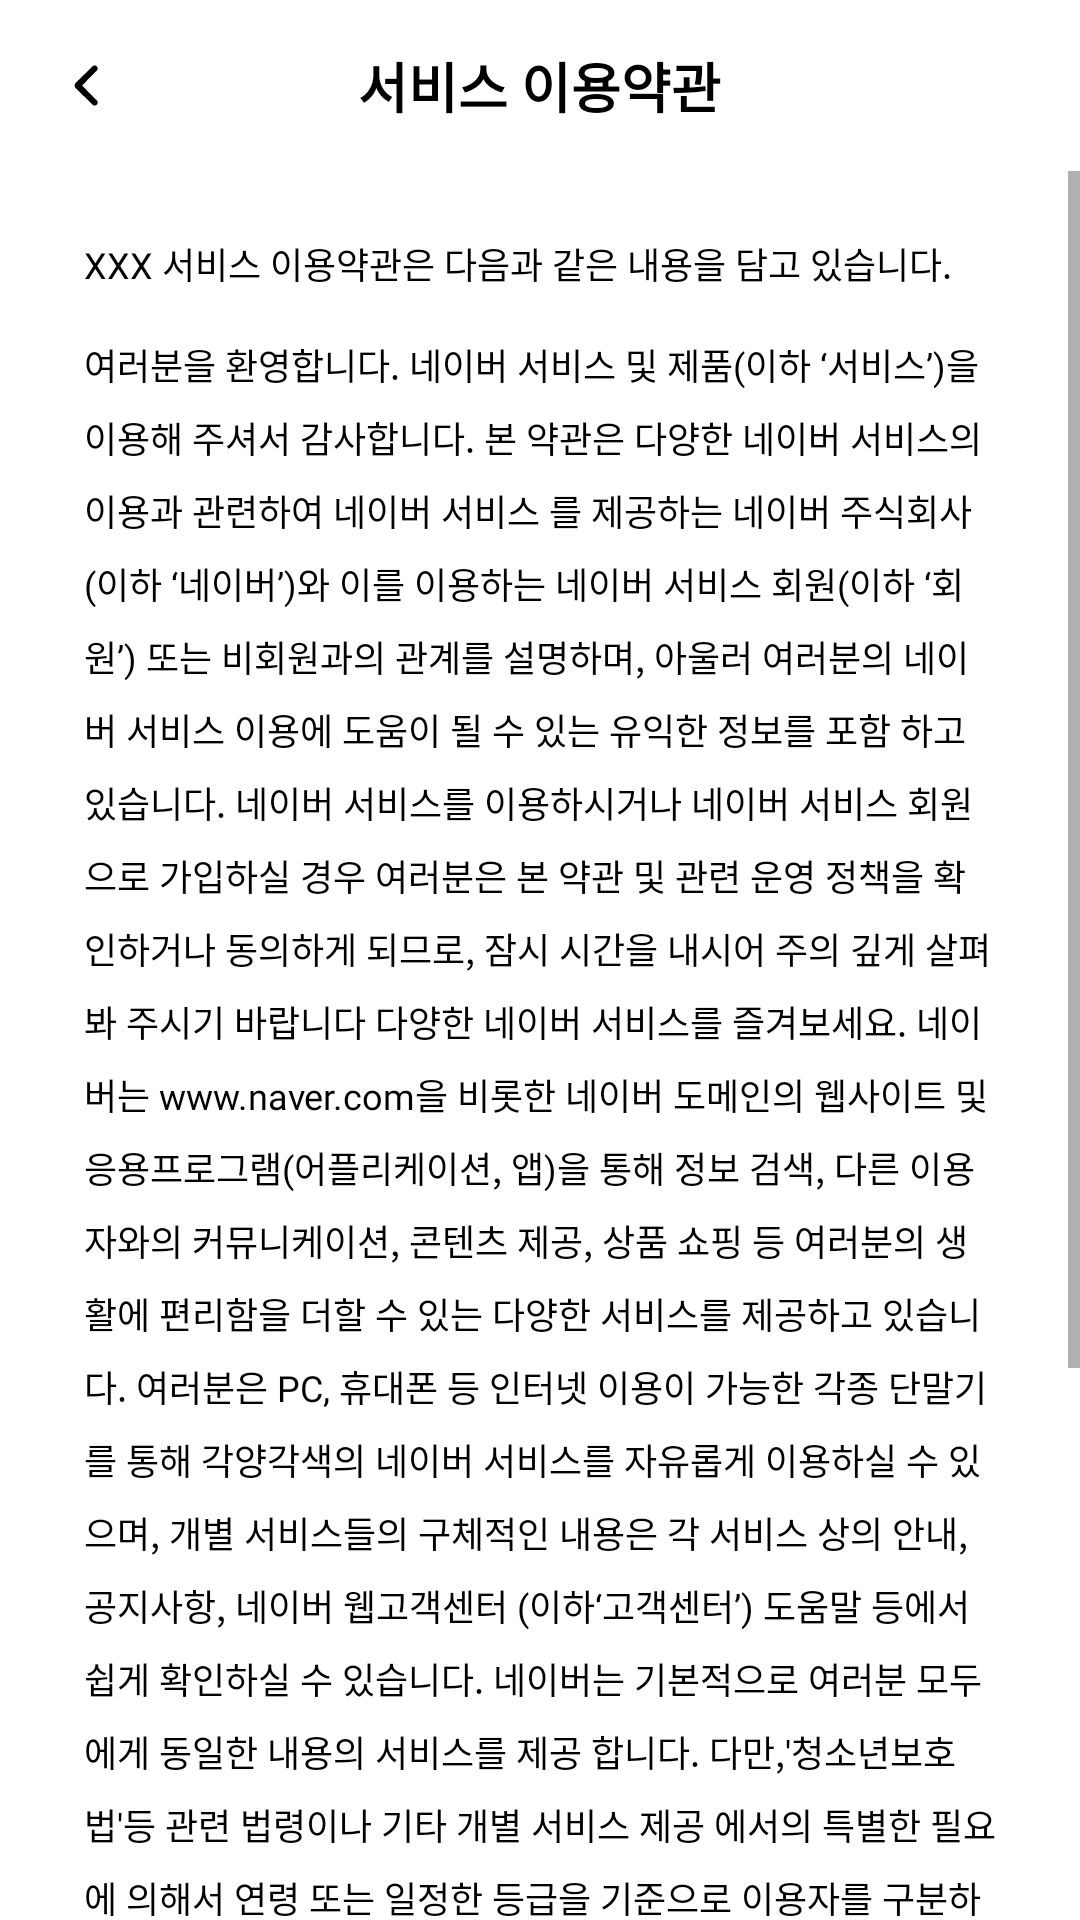

Point at icon controls on the screen. Image size 1080x1920, points as [x,y].
back toolbar: [86,85]
